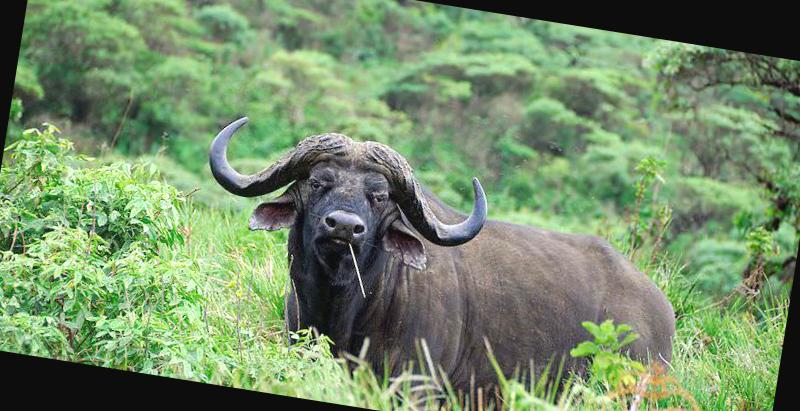Buffalo: (142, 72, 713, 411)
